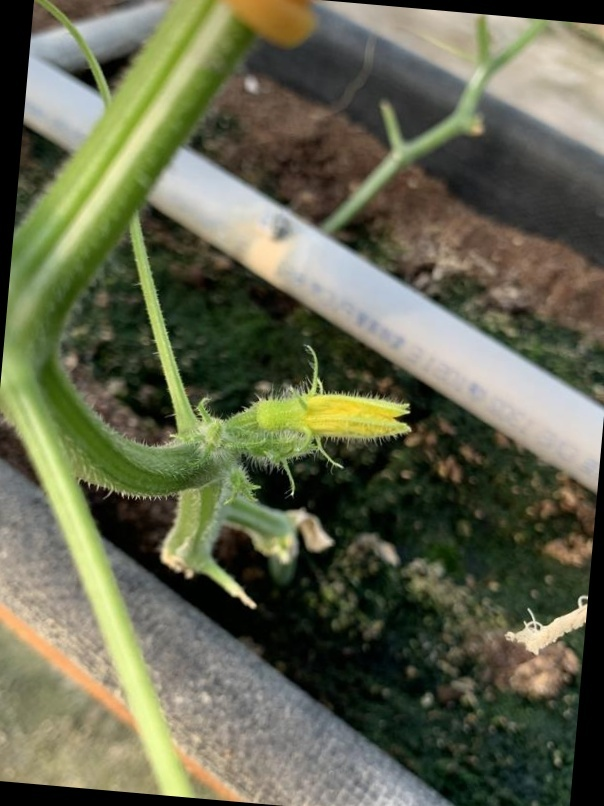bud: (226, 387, 409, 465)
